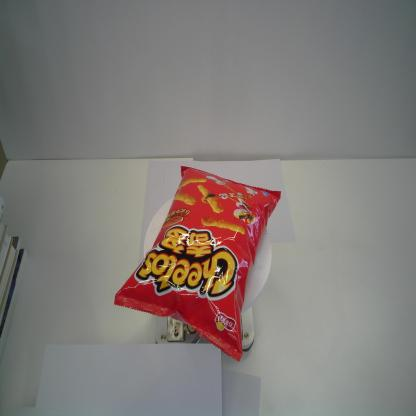Puffed Food: (114, 166, 282, 361)
